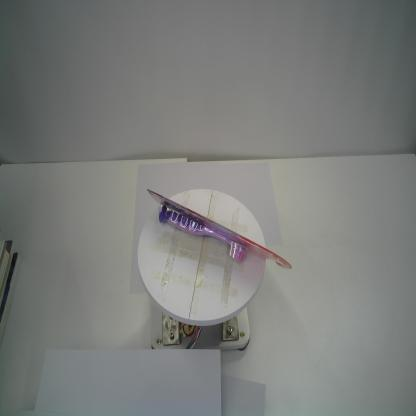Personal Hygiene: (146, 188, 293, 271)
